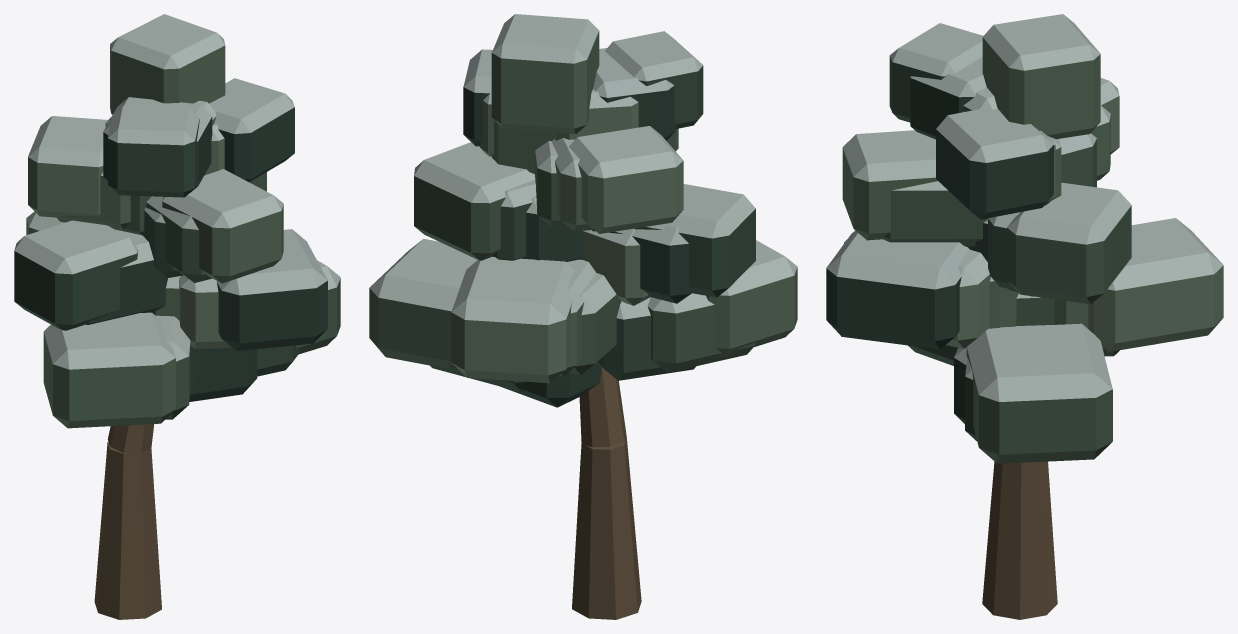
Rendered from juniper_ancient_winter_picked.glb.
3 renders of one model, left to right at view 1: azimuth 30°, elevation 25°; view 2: azimuth 150°, elevation 25°; view 3: azimuth 270°, elevation 25°, orthographic. The views are drawn at different scales.
Parts seen in each view (by area): view 1: juniper_ancient_winter_picked; view 2: juniper_ancient_winter_picked; view 3: juniper_ancient_winter_picked.
Boxes of the visible parts, x1=… form: juniper_ancient_winter_picked: x1=14, y1=14, x2=340, y2=619; juniper_ancient_winter_picked: x1=369, y1=14, x2=797, y2=619; juniper_ancient_winter_picked: x1=826, y1=14, x2=1223, y2=619.
Bounding box in the file's own units: 10.07 × 16 × 9.68.
